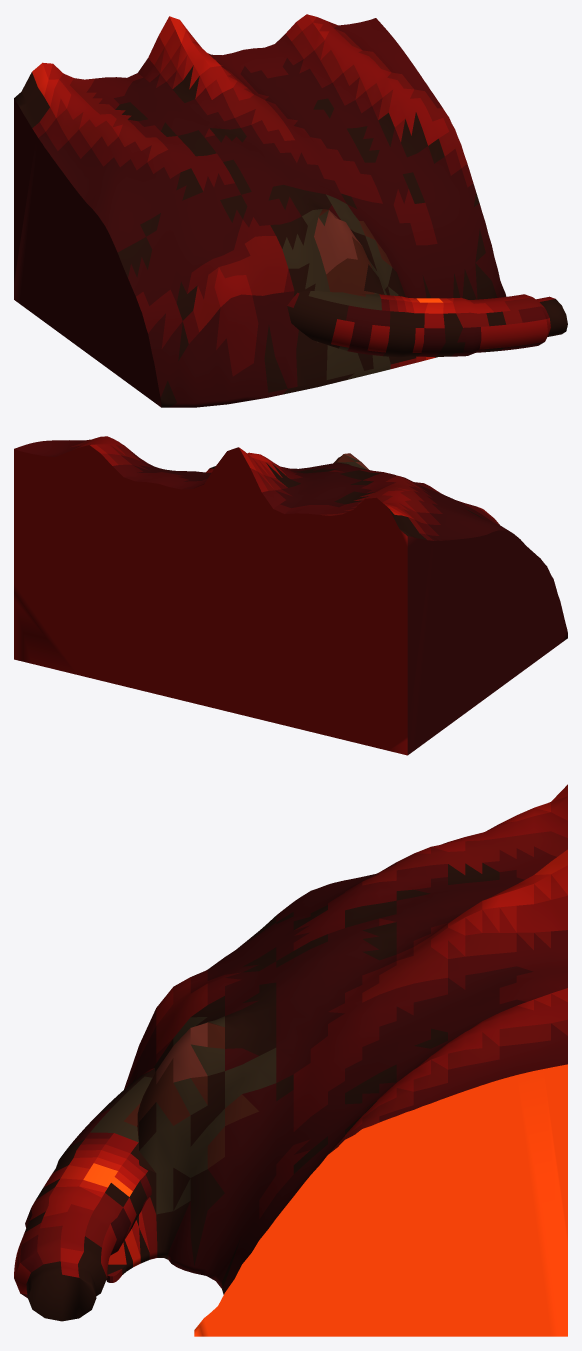
Rendered from lava_grub_r_b2.glb.
3 views of the same model, one above another, from view 1: azimuth 30°, elevation 25°; view 2: azimuth 150°, elevation 25°; view 3: azimuth 270°, elevation 25° (orthographic). The views are drawn at different scales.
Parts seen in each view (by area): view 1: lava_grub_r_b2_grub_body, lava_grub_r_b2_grub_claw_mid; view 2: lava_grub_r_b2_grub_body; view 3: lava_grub_r_b2_grub_body, lava_grub_r_b2_grub_claw_mid.
Part boxes in pixels (left/top/right/bottom): lava_grub_r_b2_grub_body: left=14, top=14, right=506, bottom=407; lava_grub_r_b2_grub_claw_mid: left=287, top=291, right=567, bottom=357; lava_grub_r_b2_grub_body: left=14, top=436, right=567, bottom=755; lava_grub_r_b2_grub_body: left=106, top=784, right=567, bottom=1336; lava_grub_r_b2_grub_claw_mid: left=14, top=1068, right=155, bottom=1321.
Bounding box in the file's own units: 23.98 × 15.55 × 22.59.
